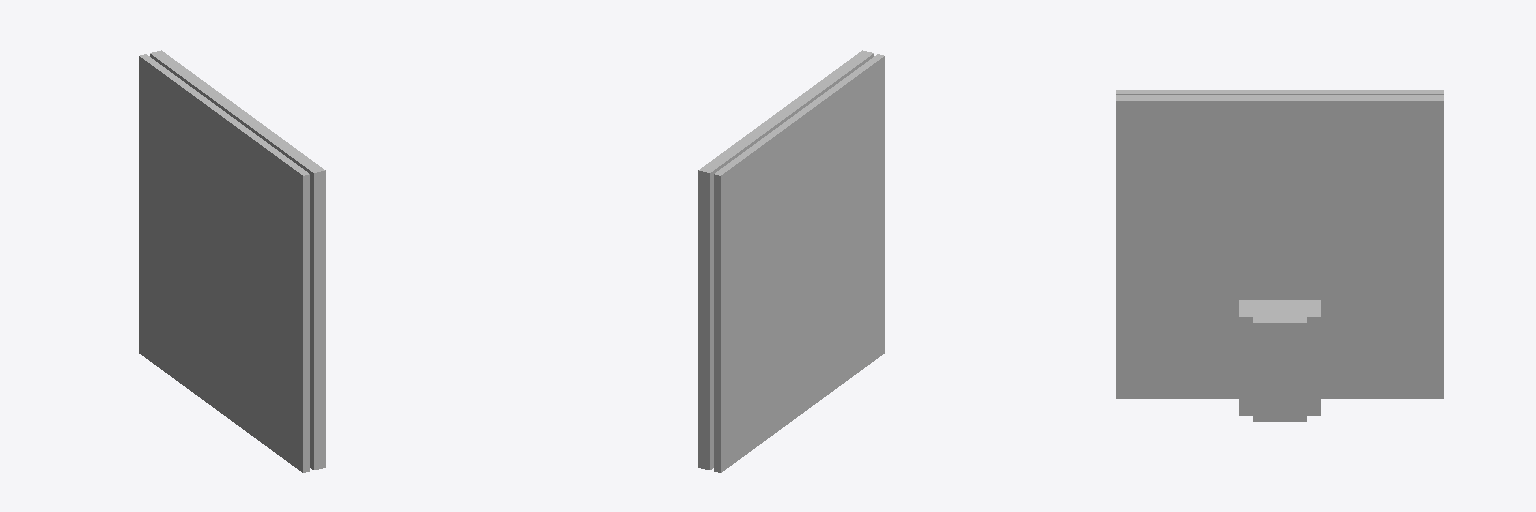
Rendered from 4_car_stop.obj.
3 renders of one model, left to right at view 1: azimuth 30°, elevation 25°; view 2: azimuth 150°, elevation 25°; view 3: azimuth 270°, elevation 25°, orthographic.
Visible parts, largest first — view 1: cube; view 2: cube; view 3: cube.
Part boxes in pixels (x1,y1,x2,y2): cube: (139, 50, 325, 472); cube: (698, 50, 884, 472); cube: (1116, 90, 1443, 421).
Size of the model in its own units: 0.0922 by 0.375 by 0.375.